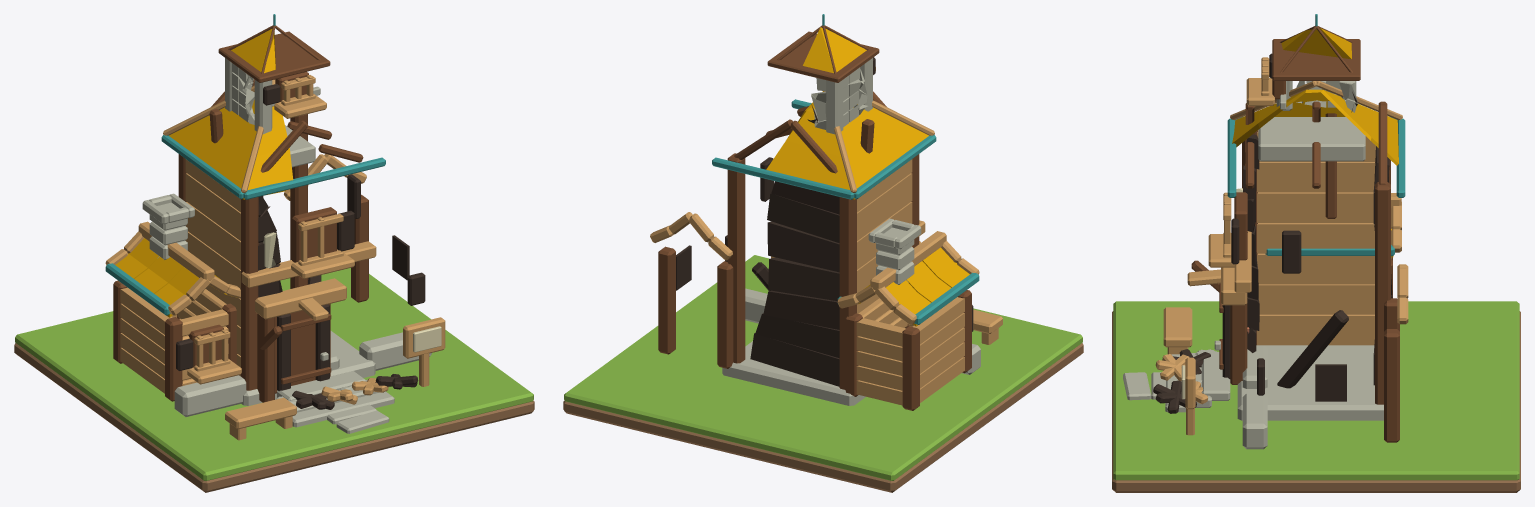
The model's file is town_hall_l06_damaged_LOD0.glb.
3 views of the same model, side by side, from view 1: azimuth 30°, elevation 25°; view 2: azimuth 150°, elevation 25°; view 3: azimuth 270°, elevation 25° (orthographic). The views are drawn at different scales.
Visible parts, largest first — view 1: town_hall_l06_damaged_grass_tile, town_hall_l06_damaged_earth_tile, town_hall_l06_damaged_corner_reinforcement, town_hall_l06_damaged_hip_roof_shingle.011, town_hall_l06_damaged_central_spire_cornice, town_hall_l06_damaged_stone_foundation_course, town_hall_l06_damaged_door_lintel, town_hall_l06_damaged_door_recess, town_hall_l06_damaged_wall_siding.022, town_hall_l06_damaged_wall_siding.018, town_hall_l06_damaged_foundation, town_hall_l06_damaged_window_recess.001 (+42 smaller); view 2: town_hall_l06_damaged_grass_tile, town_hall_l06_damaged_earth_tile, town_hall_l06_damaged_corner_reinforcement.003, town_hall_l06_damaged_foundation, town_hall_l06_damaged_wall_siding.001, town_hall_l06_damaged_corner_reinforcement.001, town_hall_l06_damaged_hip_roof_shingle.011, town_hall_l06_damaged_wall_siding.017, town_hall_l06_damaged_wall_siding.013, town_hall_l06_damaged_hip_roof_shingle.008, town_hall_l06_damaged_wall_siding.005, town_hall_l06_damaged_wall_siding.021 (+35 smaller); view 3: town_hall_l06_damaged_grass_tile, town_hall_l06_damaged_foundation, town_hall_l06_damaged_earth_tile, town_hall_l06_damaged_surviving_tower_course, town_hall_l06_damaged_wall_siding.006, town_hall_l06_damaged_wall_siding.018, town_hall_l06_damaged_wall_siding.002, town_hall_l06_damaged_wall_siding.022, town_hall_l06_damaged_wall_siding.010, town_hall_l06_damaged_corner_reinforcement.003, town_hall_l06_damaged_wall_siding.014, town_hall_l06_damaged_central_spire_cornice (+29 smaller).
Part boxes in pixels (bbox=[...]): town_hall_l06_damaged_grass_tile: bbox=[15, 268, 533, 480]; town_hall_l06_damaged_earth_tile: bbox=[14, 343, 534, 492]; town_hall_l06_damaged_corner_reinforcement: bbox=[241, 197, 258, 390]; town_hall_l06_damaged_hip_roof_shingle.011: bbox=[169, 119, 250, 199]; town_hall_l06_damaged_central_spire_cornice: bbox=[218, 31, 330, 82]; town_hall_l06_damaged_stone_foundation_course: bbox=[174, 375, 246, 416]; town_hall_l06_damaged_door_lintel: bbox=[255, 278, 346, 319]; town_hall_l06_damaged_door_recess: bbox=[275, 303, 330, 393]; town_hall_l06_damaged_wall_siding.022: bbox=[185, 173, 240, 240]; town_hall_l06_damaged_wall_siding.018: bbox=[186, 202, 240, 269]; town_hall_l06_damaged_foundation: bbox=[241, 331, 375, 405]; town_hall_l06_damaged_window_recess.001: bbox=[292, 207, 336, 262]; town_hall_l06_damaged_grass_tile: bbox=[564, 255, 1082, 480]; town_hall_l06_damaged_earth_tile: bbox=[563, 343, 1083, 492]; town_hall_l06_damaged_corner_reinforcement.003: bbox=[727, 153, 745, 363]; town_hall_l06_damaged_foundation: bbox=[722, 341, 865, 405]; town_hall_l06_damaged_wall_siding.001: bbox=[750, 333, 839, 386]; town_hall_l06_damaged_corner_reinforcement.001: bbox=[839, 197, 856, 389]; town_hall_l06_damaged_hip_roof_shingle.011: bbox=[847, 119, 928, 199]; town_hall_l06_damaged_wall_siding.017: bbox=[767, 221, 839, 272]; town_hall_l06_damaged_wall_siding.013: bbox=[768, 257, 839, 300]; town_hall_l06_damaged_hip_roof_shingle.008: bbox=[766, 140, 854, 199]; town_hall_l06_damaged_wall_siding.005: bbox=[755, 313, 839, 358]; town_hall_l06_damaged_wall_siding.021: bbox=[767, 193, 839, 242]; town_hall_l06_damaged_grass_tile: bbox=[1113, 301, 1519, 480]; town_hall_l06_damaged_foundation: bbox=[1237, 345, 1383, 420]; town_hall_l06_damaged_earth_tile: bbox=[1112, 311, 1520, 492]; town_hall_l06_damaged_surviving_tower_course: bbox=[1258, 117, 1365, 161]; town_hall_l06_damaged_wall_siding.006: bbox=[1258, 284, 1374, 314]; town_hall_l06_damaged_wall_siding.018: bbox=[1257, 192, 1373, 222]; town_hall_l06_damaged_wall_siding.002: bbox=[1257, 314, 1374, 345]; town_hall_l06_damaged_wall_siding.022: bbox=[1257, 162, 1375, 192]; town_hall_l06_damaged_wall_siding.010: bbox=[1257, 253, 1374, 284]; town_hall_l06_damaged_corner_reinforcement.003: bbox=[1375, 182, 1390, 404]; town_hall_l06_damaged_wall_siding.014: bbox=[1257, 223, 1374, 253]; town_hall_l06_damaged_central_spire_cornice: bbox=[1272, 39, 1360, 80].
Size of the model in its own units: 3.6 by 3.83 by 3.6.
